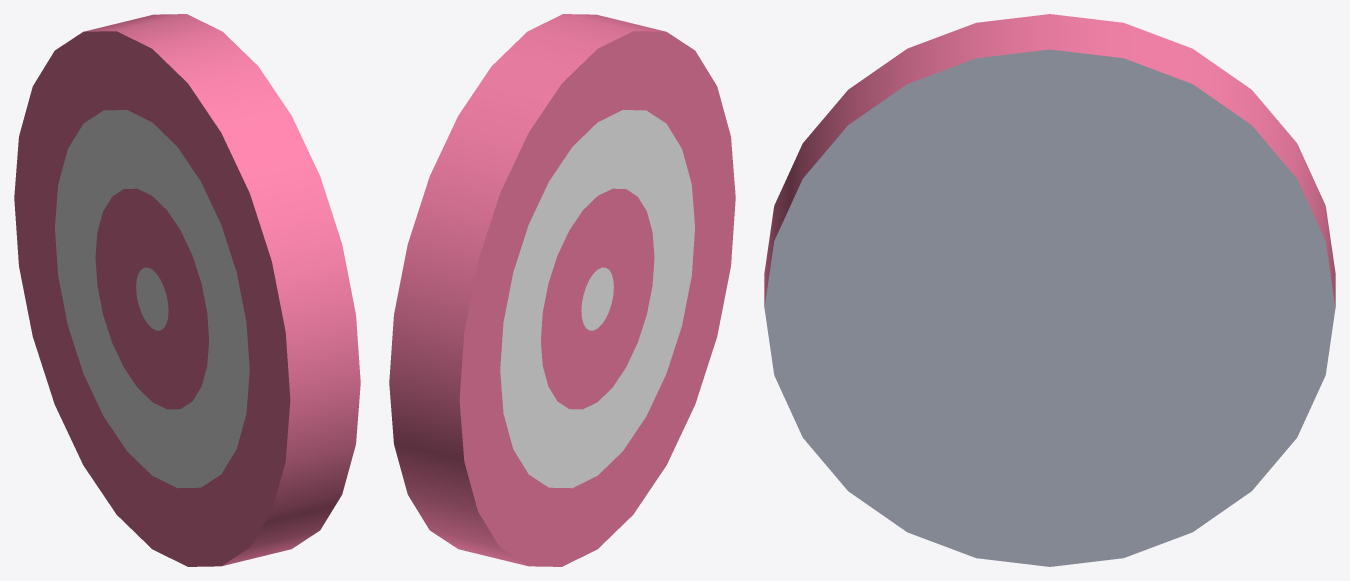
File: target_real.fbx
The picture shows the model from 3 angles, left to right: view 1: azimuth 30°, elevation 25°; view 2: azimuth 150°, elevation 25°; view 3: azimuth 270°, elevation 25°; orthographic projection. The views are drawn at different scales.
Visible parts, largest first — view 1: targetA; view 2: targetA; view 3: targetA.
Boxes of the visible parts, x1,y1,x2,y2 form: targetA: [14, 14, 360, 566]; targetA: [389, 14, 735, 566]; targetA: [764, 14, 1335, 566].
Bounding box in the file's own units: 0.05 × 0.34 × 0.34.
